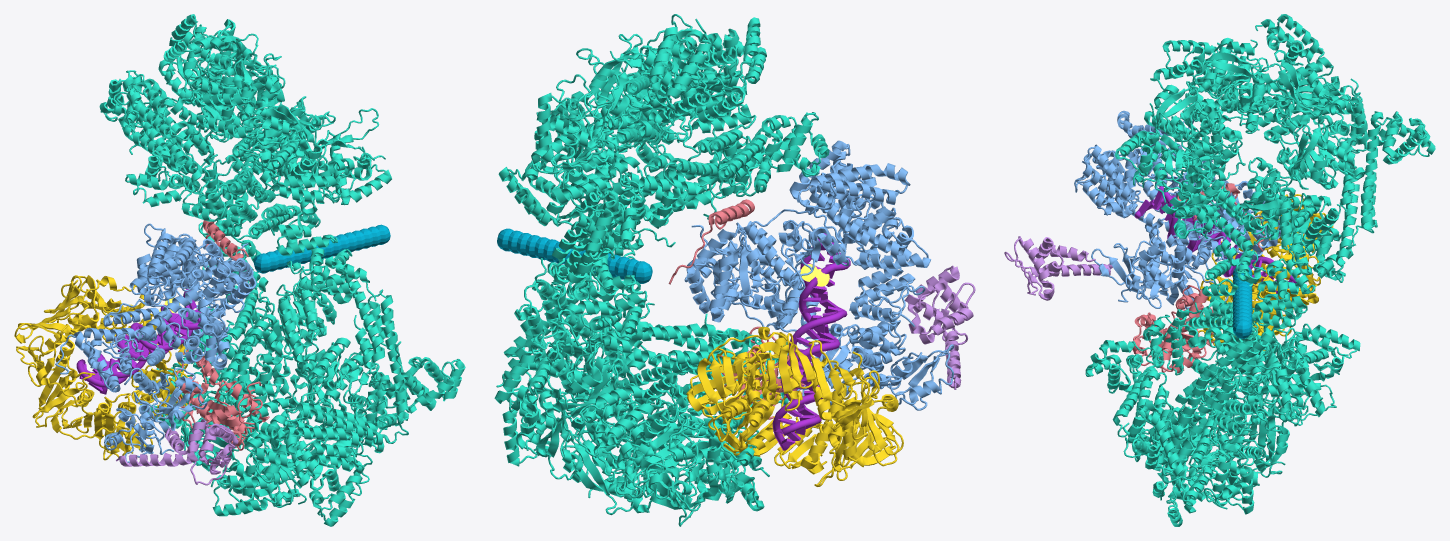
The model's file is 5FKV_assembled_pieces.glb.
3 views of the same model, side by side, from view 1: azimuth 30°, elevation 25°; view 2: azimuth 150°, elevation 25°; view 3: azimuth 270°, elevation 25° (orthographic). The views are drawn at different scales.
Parts seen in each view (by area): view 1: Piece_PolIII_DnaB_Helicase, Piece_PolIII_Alpha, Piece_PolIII_Beta_Clamp, Piece_PolIII_Epsilon, Piece_PolIII_Tau, Piece_PolIII_DNA_Duplex, Piece_PolIII_Parental_Fork; view 2: Piece_PolIII_DnaB_Helicase, Piece_PolIII_Alpha, Piece_PolIII_Beta_Clamp, Piece_PolIII_DNA_Duplex, Piece_PolIII_Tau, Piece_PolIII_Parental_Fork, Piece_PolIII_Epsilon; view 3: Piece_PolIII_DnaB_Helicase, Piece_PolIII_Alpha, Piece_PolIII_Tau, Piece_PolIII_Beta_Clamp, Piece_PolIII_Epsilon, Piece_PolIII_DNA_Duplex, Piece_PolIII_Parental_Fork.
Boxes of the visible parts, x1=… form: Piece_PolIII_DnaB_Helicase: x1=99, y1=14, x2=465, y2=526; Piece_PolIII_Alpha: x1=55, y1=223, x2=256, y2=462; Piece_PolIII_Beta_Clamp: x1=14, y1=275, x2=188, y2=460; Piece_PolIII_Epsilon: x1=176, y1=218, x2=269, y2=450; Piece_PolIII_Tau: x1=116, y1=419, x2=238, y2=485; Piece_PolIII_DNA_Duplex: x1=76, y1=289, x2=201, y2=394; Piece_PolIII_Parental_Fork: x1=253, y1=224, x2=390, y2=273; Piece_PolIII_DnaB_Helicase: x1=494, y1=14, x2=829, y2=526; Piece_PolIII_Alpha: x1=684, y1=140, x2=954, y2=410; Piece_PolIII_Beta_Clamp: x1=686, y1=326, x2=903, y2=486; Piece_PolIII_DNA_Duplex: x1=772, y1=233, x2=850, y2=450; Piece_PolIII_Tau: x1=904, y1=265, x2=975, y2=389; Piece_PolIII_Parental_Fork: x1=497, y1=228, x2=652, y2=283; Piece_PolIII_Epsilon: x1=668, y1=199, x2=804, y2=419; Piece_PolIII_DnaB_Helicase: x1=1085, y1=14, x2=1435, y2=526; Piece_PolIII_Alpha: x1=1074, y1=110, x2=1280, y2=309; Piece_PolIII_Tau: x1=1004, y1=236, x2=1112, y2=300; Piece_PolIII_Beta_Clamp: x1=1198, y1=194, x2=1333, y2=350; Piece_PolIII_Epsilon: x1=1132, y1=183, x2=1265, y2=373; Piece_PolIII_DNA_Duplex: x1=1134, y1=186, x2=1296, y2=293; Piece_PolIII_Parental_Fork: x1=1233, y1=264, x2=1252, y2=338.
Bounding box in the file's own units: 19.84 × 23.92 × 19.77.
